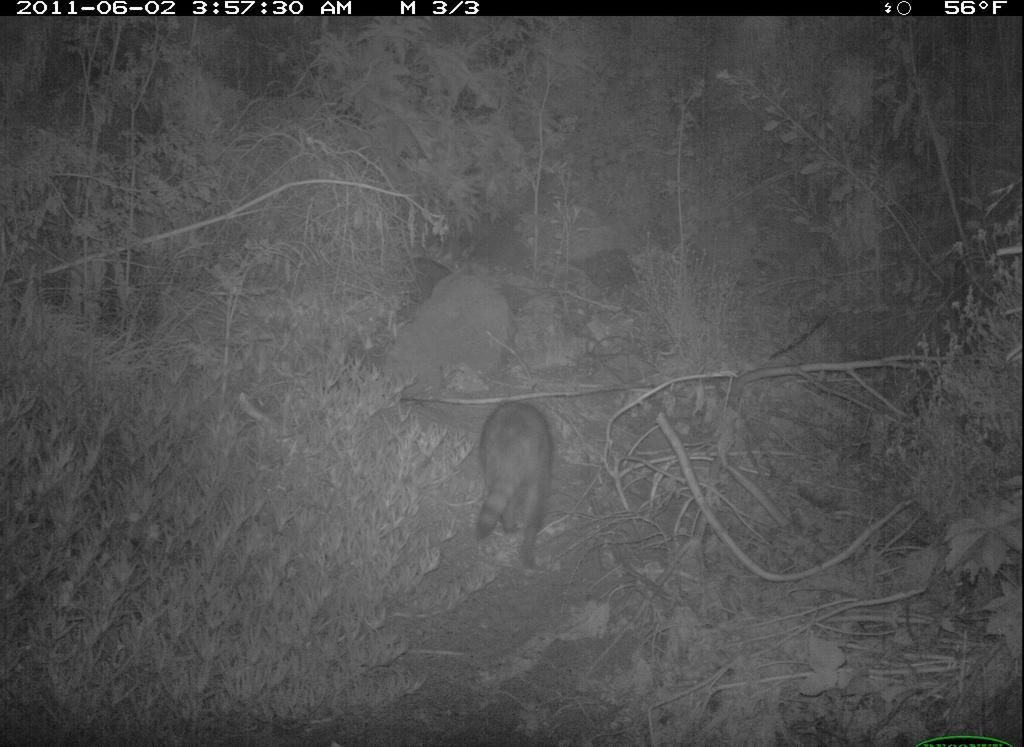raccoon: (466, 395, 564, 584)
